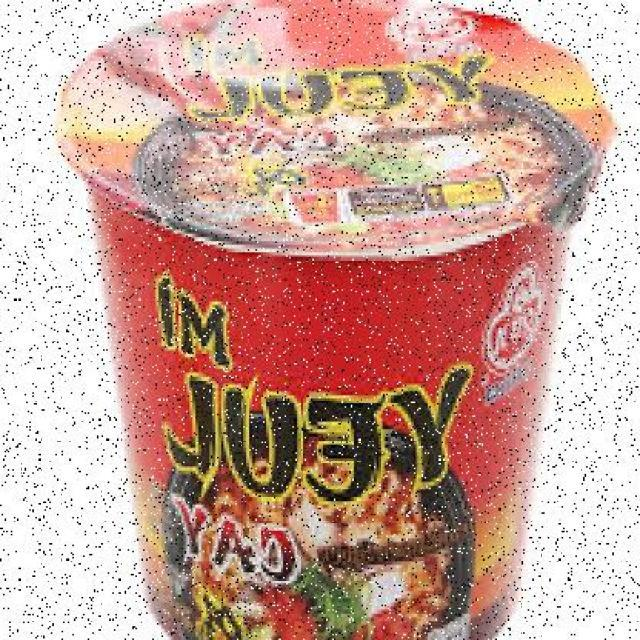Miscellaneous: (76, 0, 609, 640)
